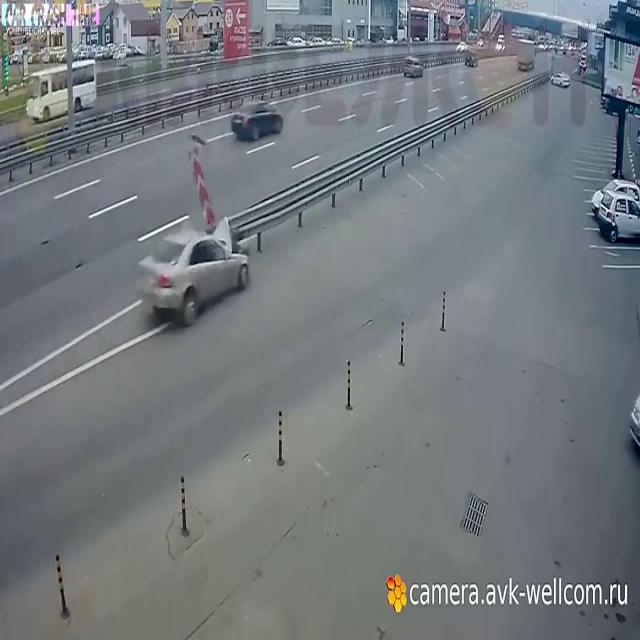accident: (133, 188, 262, 338)
